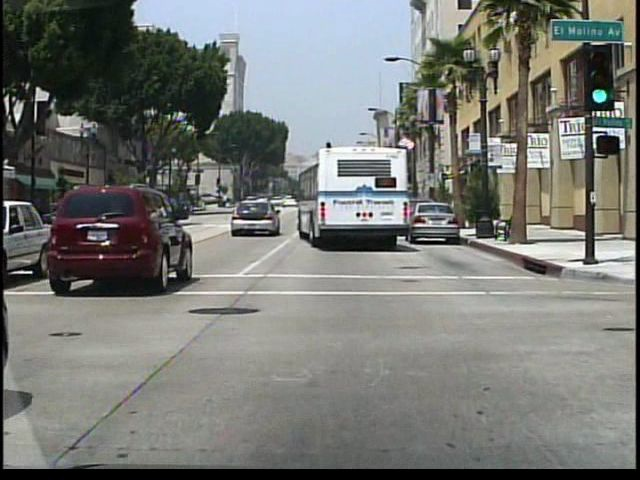person: (460, 190, 473, 228)
